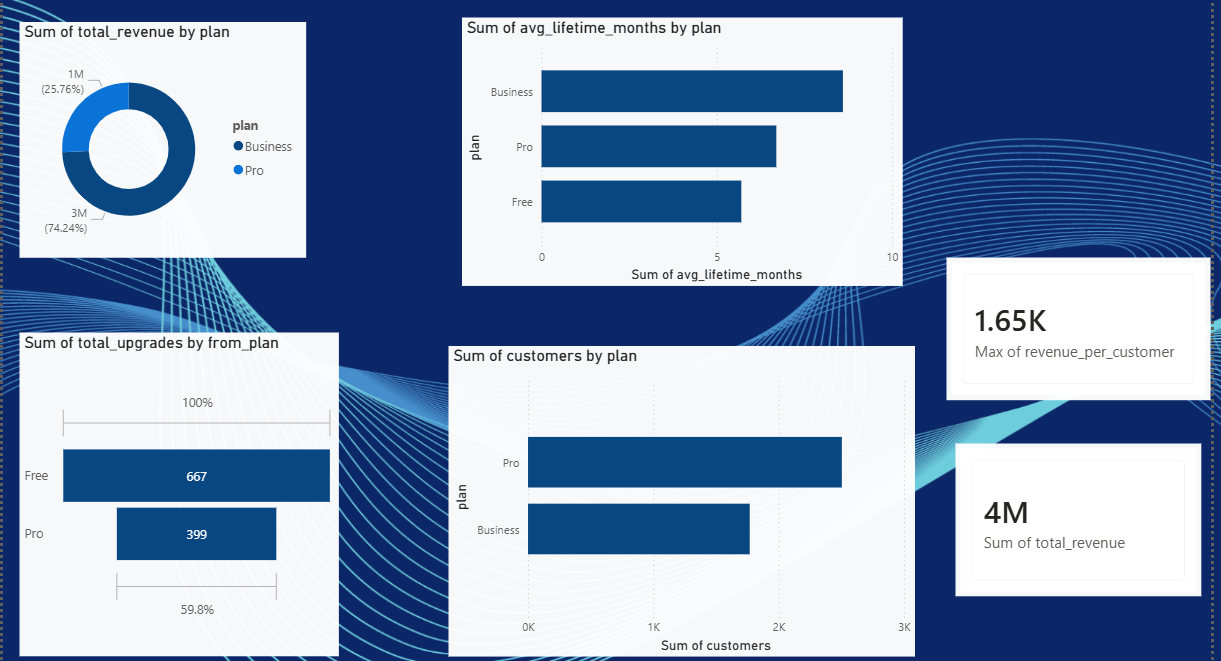

Layout of this report page (visuals, bound fields, positions):
{"tool":"powerbi","page":{"name":"Plan Performance","canvas":[1280,720],"ordinal":3},"visuals":[{"type":"donutChart","fields":{"Y":["Sum(plan_revenue.total_revenue)"],"Category":["plan_revenue.plan"]},"box":[17.5,35,303.8,249.7],"z":0},{"type":"clusteredBarChart","fields":{"Category":["plan_revenue.plan"],"Y":["Sum(plan_revenue.customers)"]},"box":[472.4,378.6,494.7,329.3],"z":1},{"type":"funnel","fields":{"Y":["Sum(upgrade_flow.total_upgrades)"],"Category":["upgrade_flow.from_plan"]},"box":[17.5,364.2,338.8,343.6],"z":2},{"type":"barChart","fields":{"Category":["plan_lifetime.plan"],"Y":["Sum(plan_lifetime.avg_lifetime_months)"]},"box":[486.7,30.2,467.6,284.7],"z":3},{"type":"cardVisual","fields":{"Data":["Sum(plan_revenue.total_revenue)"]},"box":[1010,482,260.9,162.2],"z":4},{"type":"cardVisual","fields":{"Data":["Max(plan_revenue.revenue_per_customer)"]},"box":[1000.5,284.7,279.9,151.1],"z":5}]}

Visuals, with their boxes in screenshot pixels (x1, y1, x2, y2):
donutChart - Sum(plan_revenue.total_revenue) x plan_revenue.plan: select_region(16, 20, 302, 255)
clusteredBarChart - plan_revenue.plan x Sum(plan_revenue.customers): select_region(444, 343, 908, 652)
funnel - Sum(upgrade_flow.total_upgrades) x upgrade_flow.from_plan: select_region(16, 329, 335, 652)
barChart - plan_lifetime.plan x Sum(plan_lifetime.avg_lifetime_months): select_region(457, 16, 896, 283)
cardVisual - Sum(plan_revenue.total_revenue): select_region(949, 440, 1194, 592)
cardVisual - Max(plan_revenue.revenue_per_customer): select_region(940, 255, 1203, 397)
